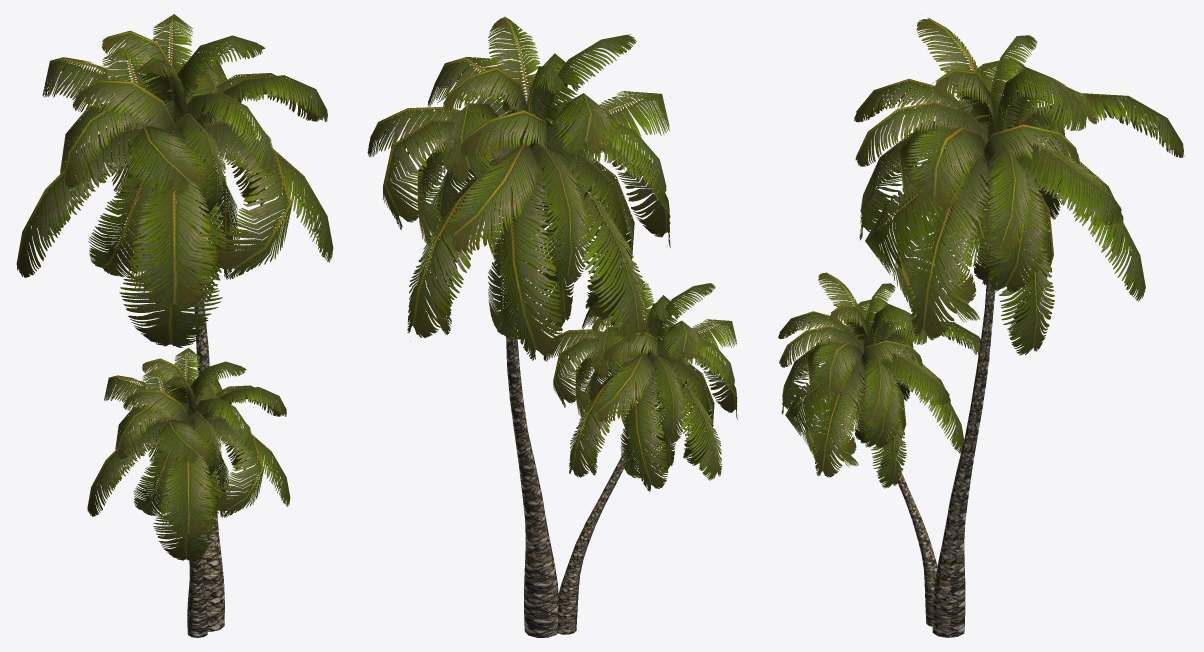
File: palm_tropical_3.glb
3 views of the same model, side by side, from view 1: azimuth 30°, elevation 25°; view 2: azimuth 150°, elevation 25°; view 3: azimuth 270°, elevation 25° (orthographic). The views are drawn at different scales.
Visible parts, largest first — view 1: palm_tropical_3; view 2: palm_tropical_3; view 3: palm_tropical_3.
Part boxes in pixels (x1,y1,x2,y2): palm_tropical_3: (16,14,333,637); palm_tropical_3: (367,16,737,637); palm_tropical_3: (778,14,1184,637).
Bounding box in the file's own units: 6.65 × 12.82 × 8.33.
Materials: 1 (1 with a texture image).
